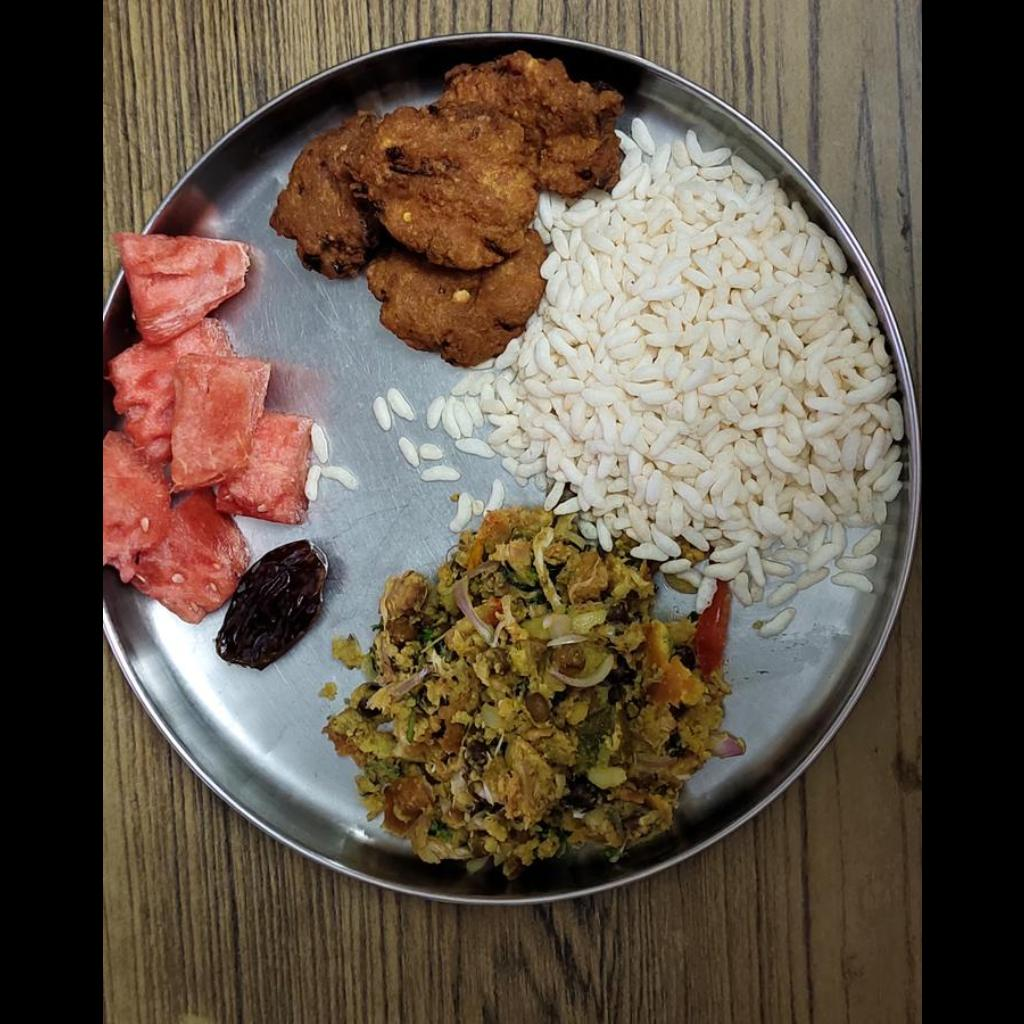chola: (349, 504, 717, 851)
dates: (213, 545, 333, 661)
peyaju: (265, 61, 615, 373)
puffed-rice: (450, 132, 900, 577)
watermelon: (102, 234, 304, 622)
